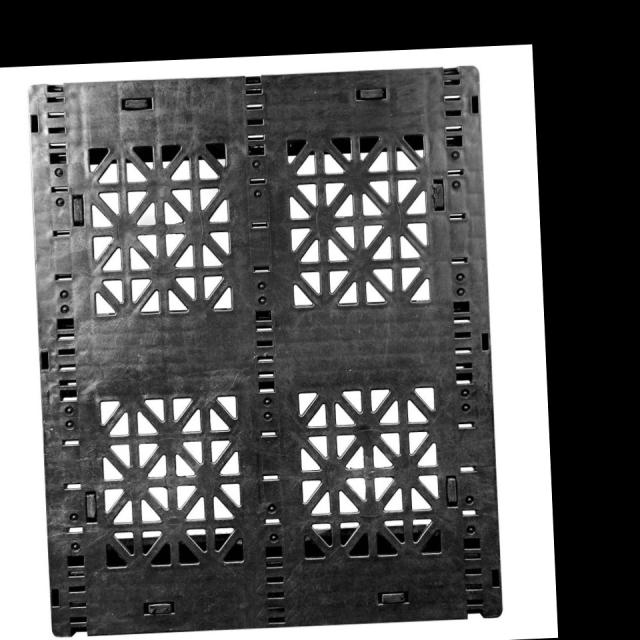non-igps: (19, 59, 511, 640)
